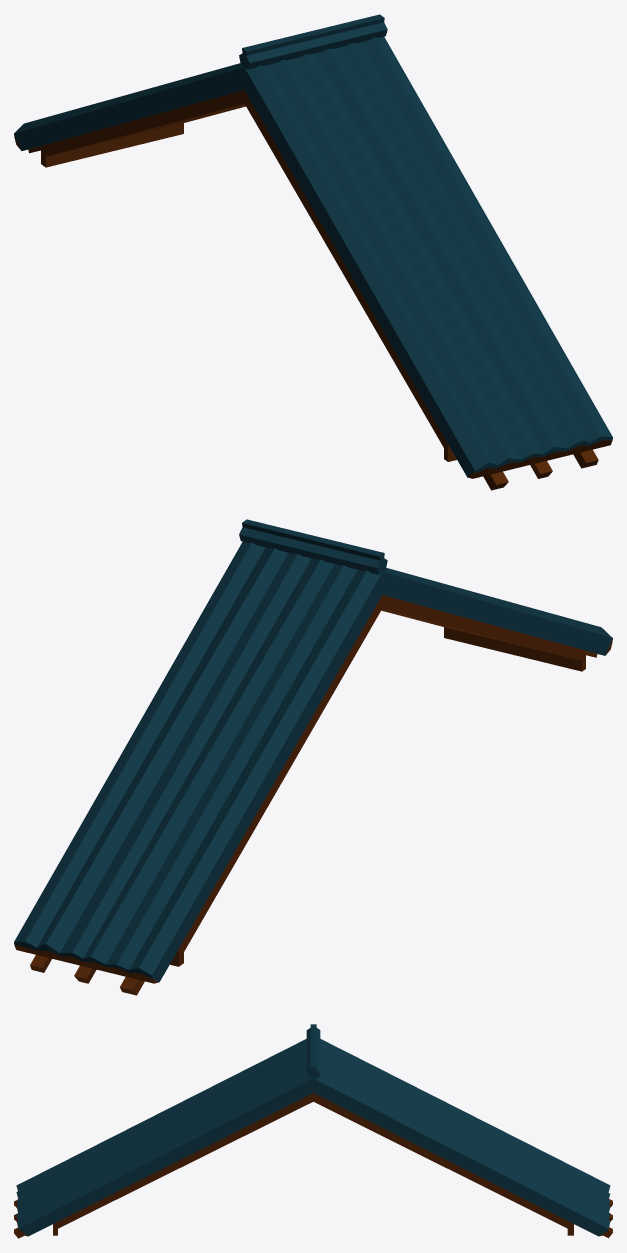
Rendered from Bld_Dojo_Roof.fbx.
The picture shows the model from 3 angles, top to bottom: view 1: azimuth 30°, elevation 25°; view 2: azimuth 150°, elevation 25°; view 3: azimuth 270°, elevation 25°; orthographic projection. The views are drawn at different scales.
Parts seen in each view (by area): view 1: Bld_Dojo_Roof; view 2: Bld_Dojo_Roof; view 3: Bld_Dojo_Roof.
Part boxes in pixels (x1=…): Bld_Dojo_Roof: x1=14, y1=14, x2=612, y2=490; Bld_Dojo_Roof: x1=14, y1=519, x2=612, y2=995; Bld_Dojo_Roof: x1=14, y1=1024, x2=612, y2=1238.
Bounding box in the file's own units: 400 × 764 × 2349.
